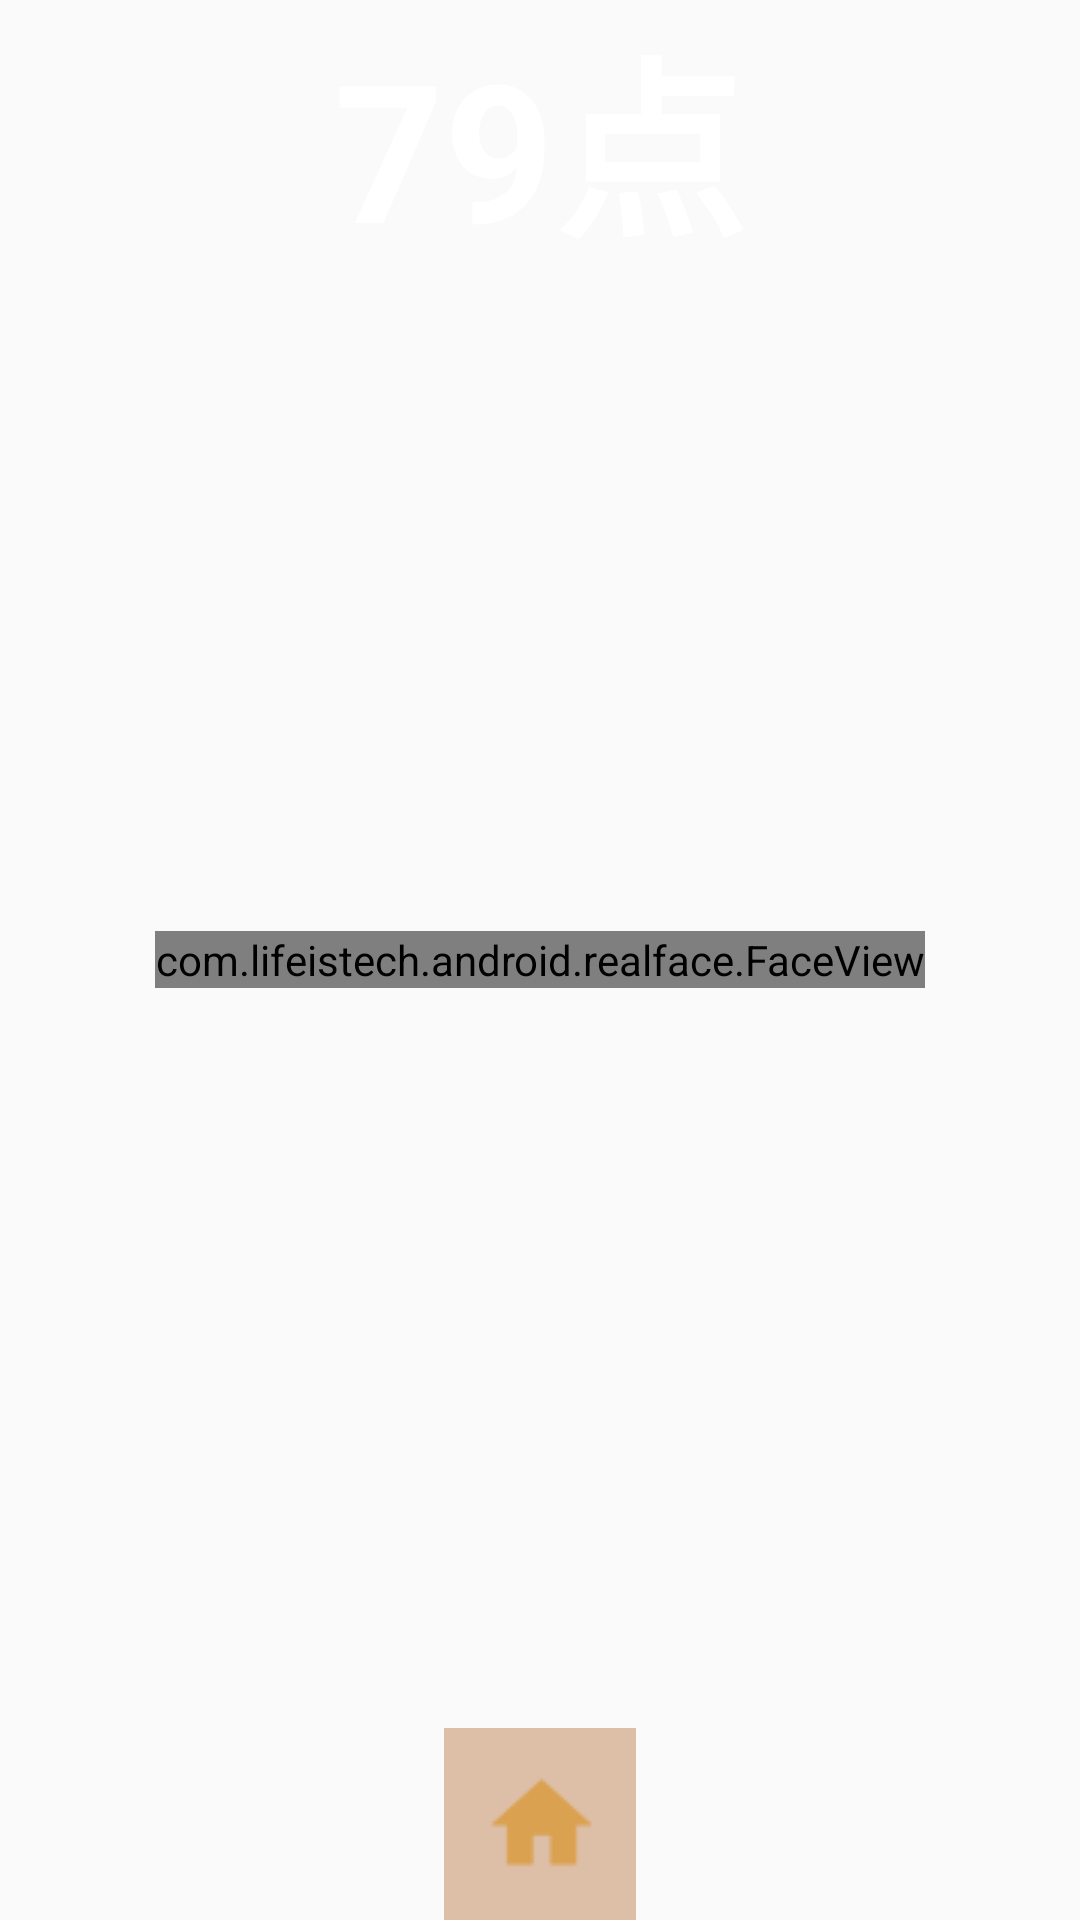

Point at icon controls on the screen. Image size 1080px×1920px, points as point (x, y).
home: point (540, 1824)
